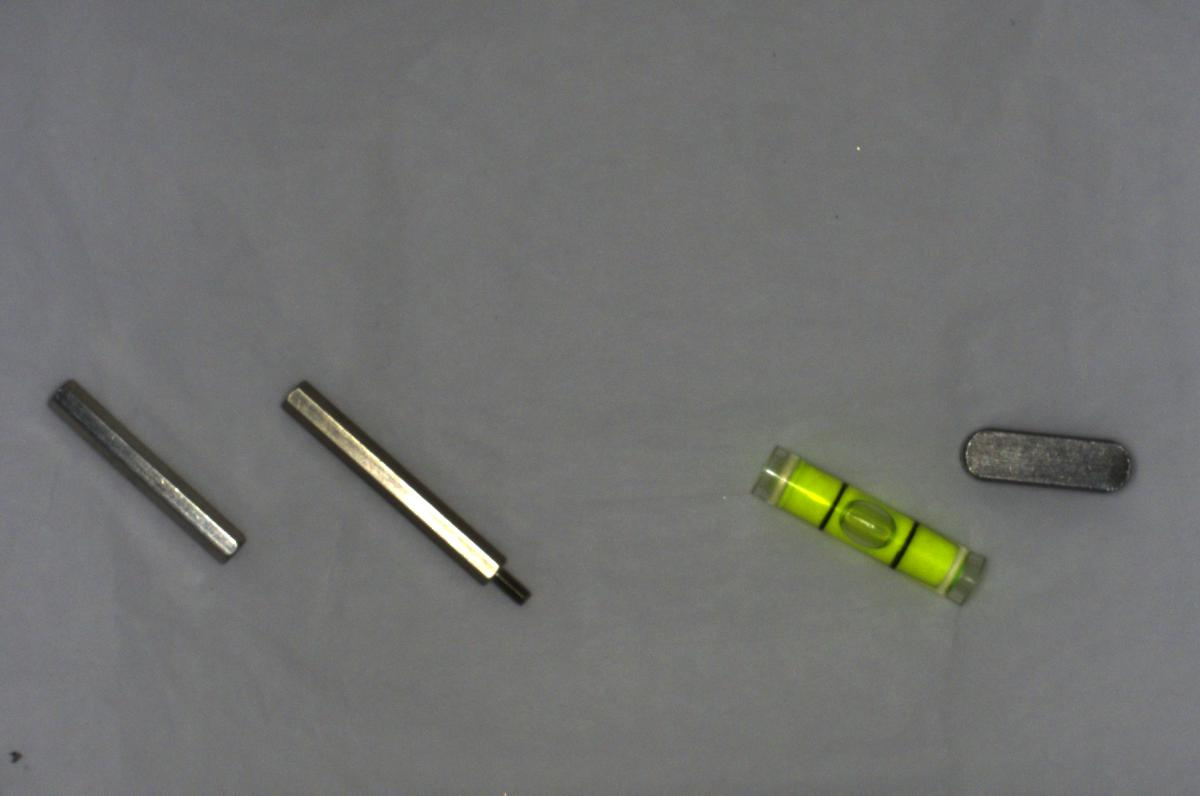Double hexagonal column: (41, 385, 248, 565)
Hexagonal steel column: (275, 373, 535, 610)
Horizontal bubble: (746, 452, 992, 612)
Keybar: (958, 423, 1145, 496)
